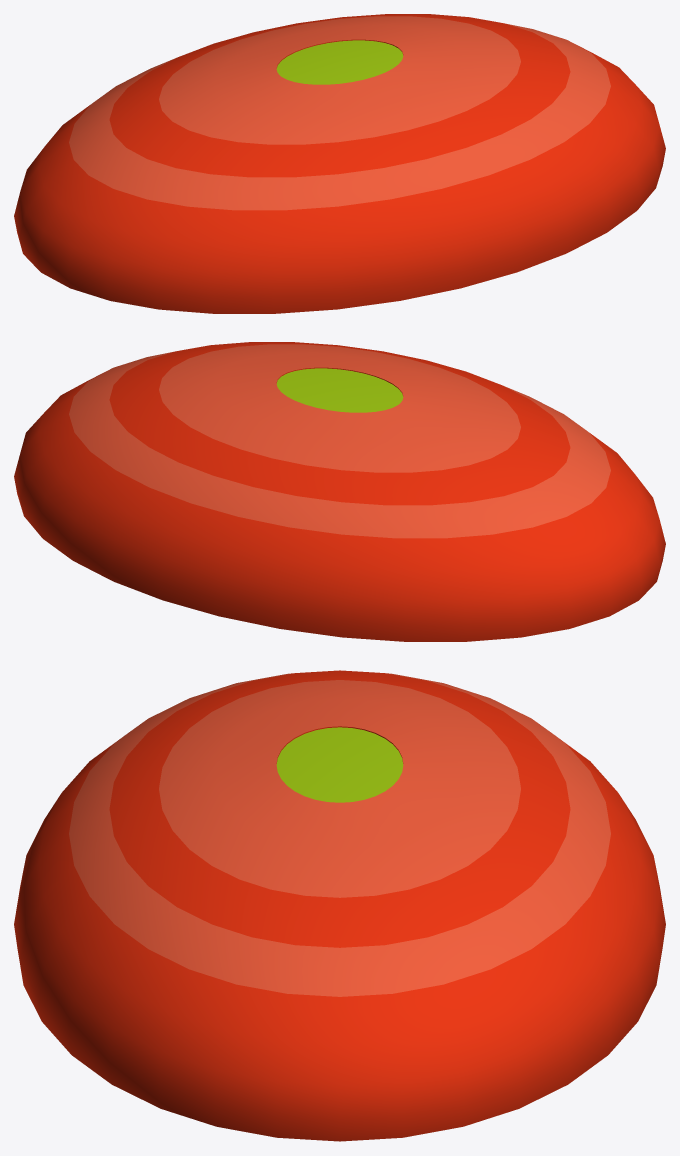
The model's file is Rooftop 1.FBX.
3 views of the same model, one above another, from view 1: azimuth 30°, elevation 25°; view 2: azimuth 150°, elevation 25°; view 3: azimuth 270°, elevation 25° (orthographic). The views are drawn at different scales.
Parts seen in each view (by area): view 1: roof lp; view 2: roof lp; view 3: roof lp.
Boxes of the visible parts, <box> form: roof lp: <box>14,14,665,313</box>; roof lp: <box>14,342,665,641</box>; roof lp: <box>14,670,665,1141</box>.
Size of the model in its own units: 7358 by 1617 by 5168.
